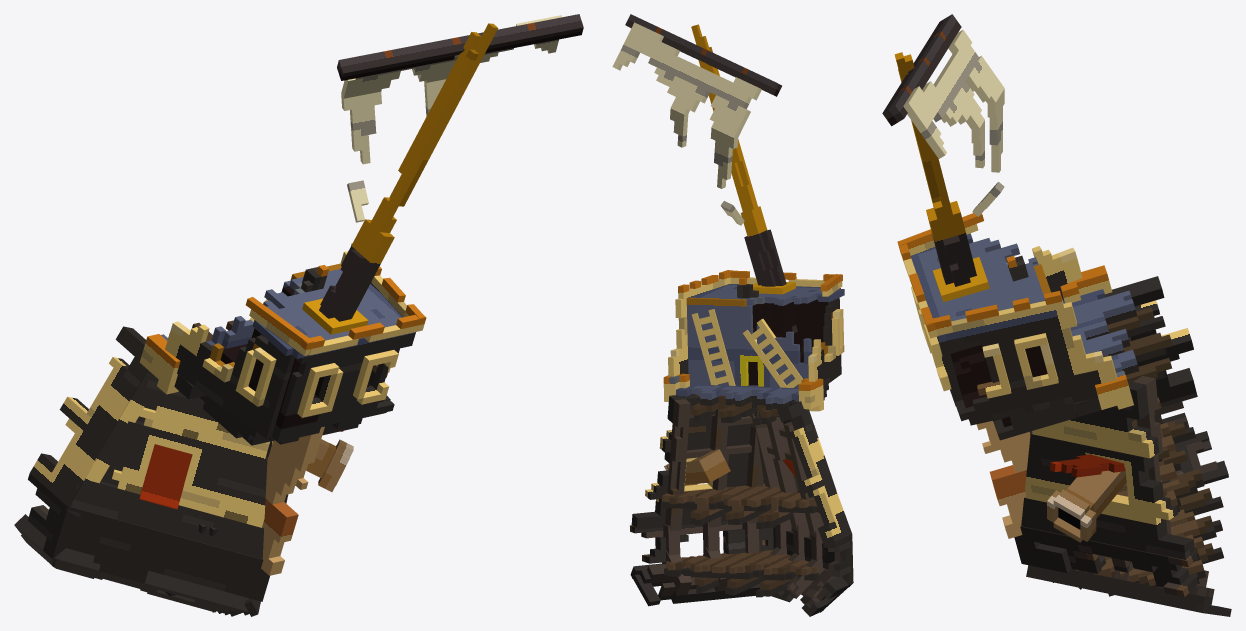
Rendered from wreck_RNavy_frig_stern.gltf.
3 renders of one model, left to right at view 1: azimuth 30°, elevation 25°; view 2: azimuth 150°, elevation 25°; view 3: azimuth 270°, elevation 25°, orthographic. The views are drawn at different scales.
Parts seen in each view (by area): view 1: wreck_stern-Local, Rightback03$$(1)-Local, ship_back_large$$(2)-Local, side-01$$(1)-Local, mast_fore$$(3)-Local, Right_L1-Local, cross_beam-Local, rudder-Local, bs_back_Right-Local, door-Local, sail_fore_01$$(3)-Local, sail_fore_02$$(3)-Local (+4 smaller); view 2: wreck_stern-Local, Leftback03-Local, sail_fore_01$$(3)-Local, ship_back_large$$(2)-Local, Right_L1-Local, mast_fore$$(3)-Local, Rightback03$$(1)-Local, side-01$$(1)-Local, bs_back$$(1)-Local, cross_beam-Local, side-01-Local, ladder-Local (+7 smaller); view 3: wreck_stern-Local, Leftback03-Local, side-01-Local, sail_fore_01$$(3)-Local, ship_back_large$$(2)-Local, mast_fore$$(3)-Local, cannon_stbd_stern$$(2)-Local, bs_back$$(1)-Local, rudder-Local, Right_L1-Local, cross_beam-Local, side-01$$(1)-Local (+4 smaller).
Boxes of the visible parts, x1,y1,x2,y2 form: wreck_stern-Local: (139,263,426,596); Rightback03$$(1)-Local: (71,372,269,559); ship_back_large$$(2)-Local: (57,494,288,601); side-01$$(1)-Local: (165,297,313,438); mast_fore$$(3)-Local: (319,23,498,321); Right_L1-Local: (30,326,147,506); cross_beam-Local: (337,14,583,80); rudder-Local: (261,426,324,575); bs_back_Right-Local: (56,548,249,613); door-Local: (139,444,192,509); sail_fore_01$$(3)-Local: (341,15,561,98); sail_fore_02$$(3)-Local: (341,79,445,164); wreck_stern-Local: (662,270,844,597); Leftback03-Local: (631,393,767,531); sail_fore_01$$(3)-Local: (612,22,761,139); ship_back_large$$(2)-Local: (630,519,834,569); Right_L1-Local: (777,401,851,545); mast_fore$$(3)-Local: (691,24,797,332); Rightback03$$(1)-Local: (749,401,846,536); side-01$$(1)-Local: (808,274,844,387); bs_back$$(1)-Local: (630,547,759,603); cross_beam-Local: (625,14,781,96); side-01-Local: (668,270,732,376); ladder-Local: (691,309,735,385); wreck_stern-Local: (898,233,1223,596); Leftback03-Local: (1021,376,1194,559); side-01-Local: (926,290,1116,425); sail_fore_01$$(3)-Local: (903,30,1004,158); ship_back_large$$(2)-Local: (1014,420,1197,597); mast_fore$$(3)-Local: (894,52,976,286); cannon_stbd_stern$$(2)-Local: (1047,470,1126,542); bs_back$$(1)-Local: (1026,561,1214,613); rudder-Local: (976,421,1030,538); Right_L1-Local: (1105,276,1196,403); cross_beam-Local: (882,14,961,126); side-01$$(1)-Local: (897,213,1082,299).
Size of the model in its own units: 60.87 by 85.67 by 43.12.
26 materials, 26 textured.
